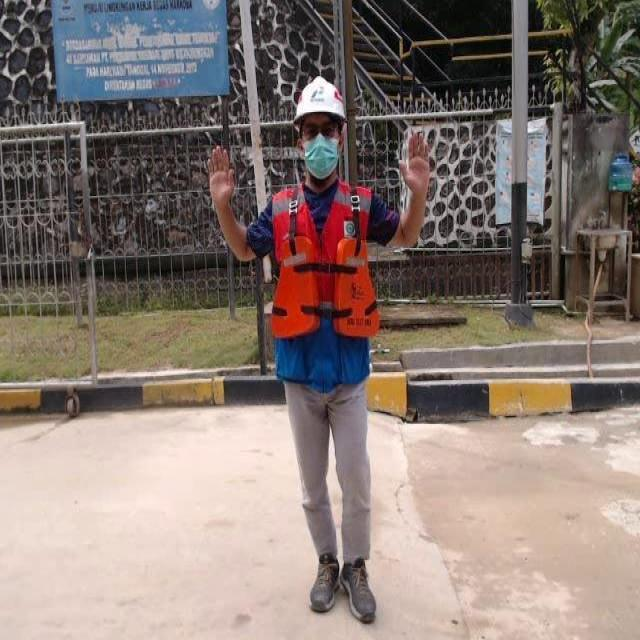Vest: (269, 232, 382, 343)
